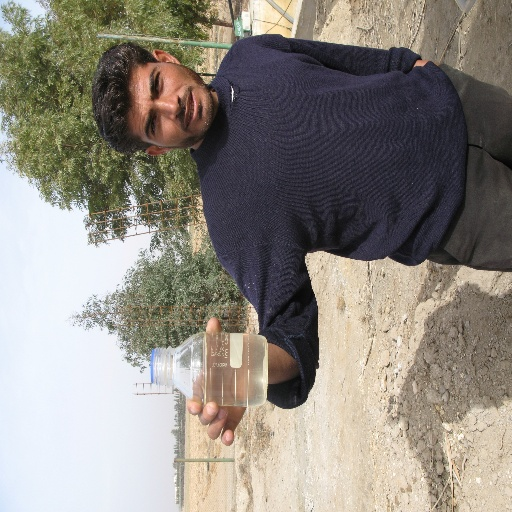hand: (177, 334, 279, 430), (417, 60, 440, 66)
